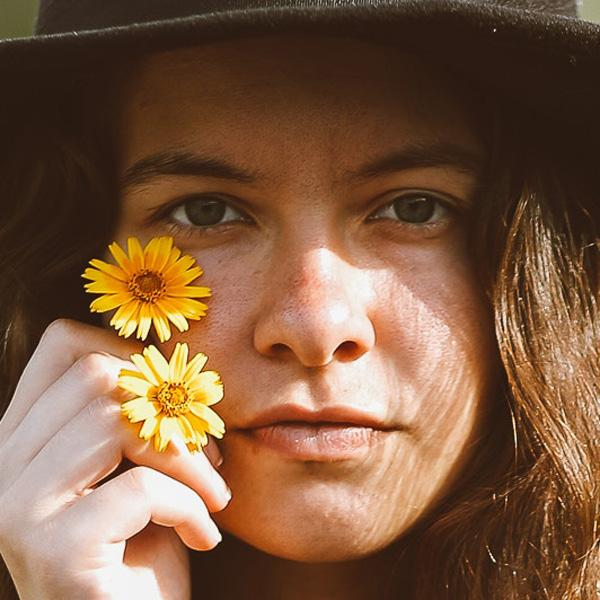Eyes: (142, 184, 268, 251), (354, 180, 466, 246)
